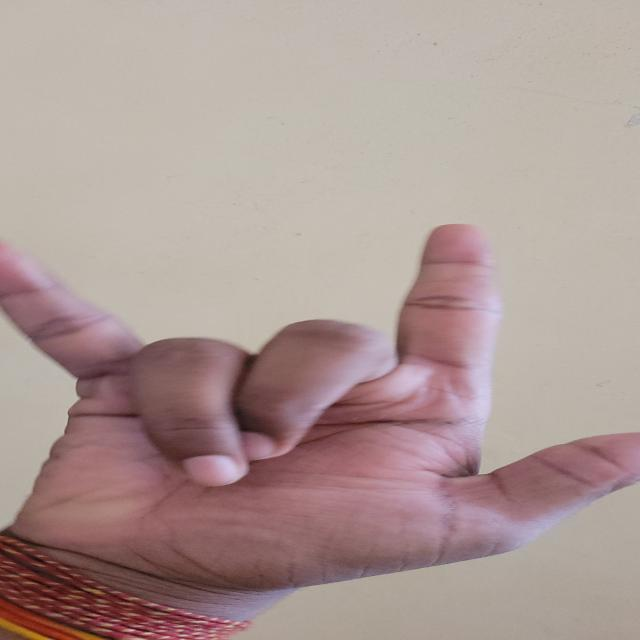i like you: (1, 203, 640, 640)
